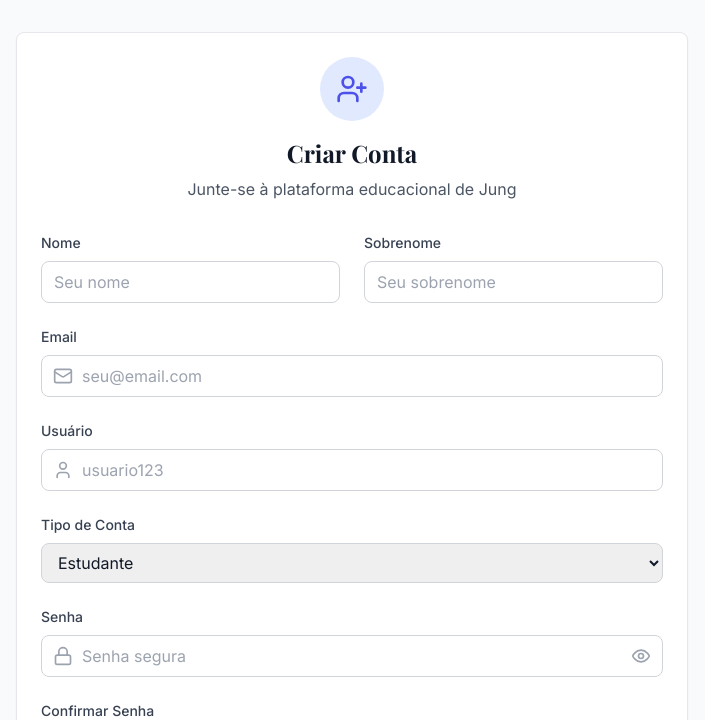
Scenario: RegisterForm Component › Form Validation › should show password match confirmation
Type "MatchingPass123!" into the password field labelled "Senha".
click(352, 656); type("MatchingPass123!")  # box [41,635,663,677]
(page scrolled)
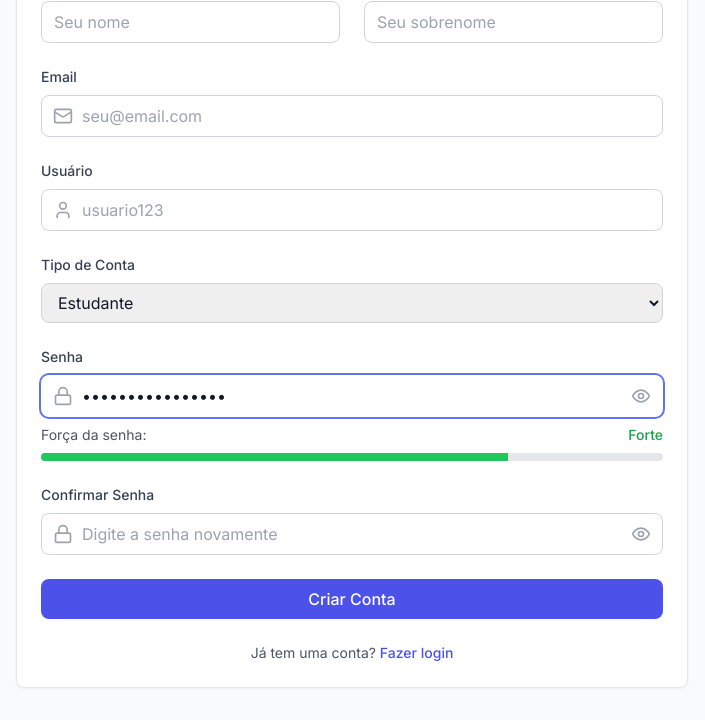
Type "MatchingPass123!" into the password field labelled "Confirmar Senha".
click(352, 534); type("MatchingPass123!")  # box [41,513,663,555]
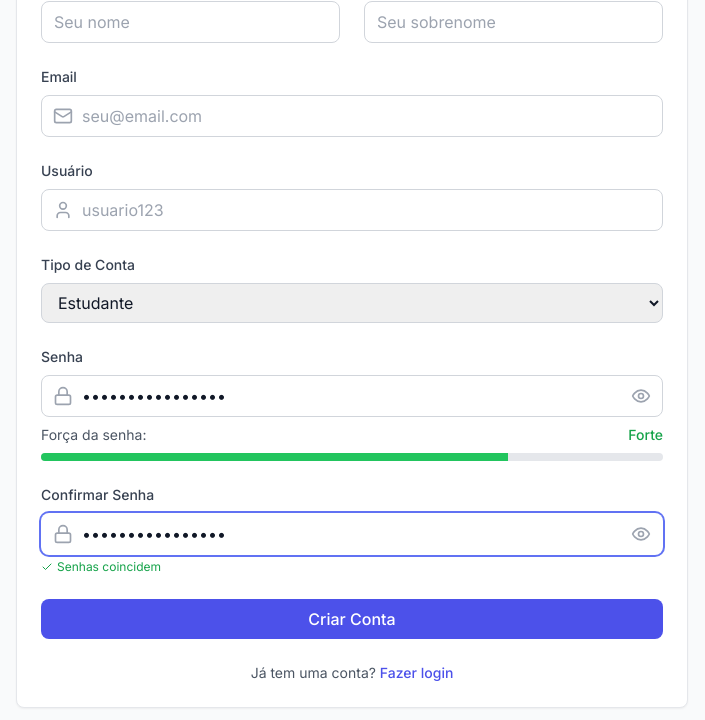
Result: the text "Senhas coincidem" is shown at [41,559,161,574]
